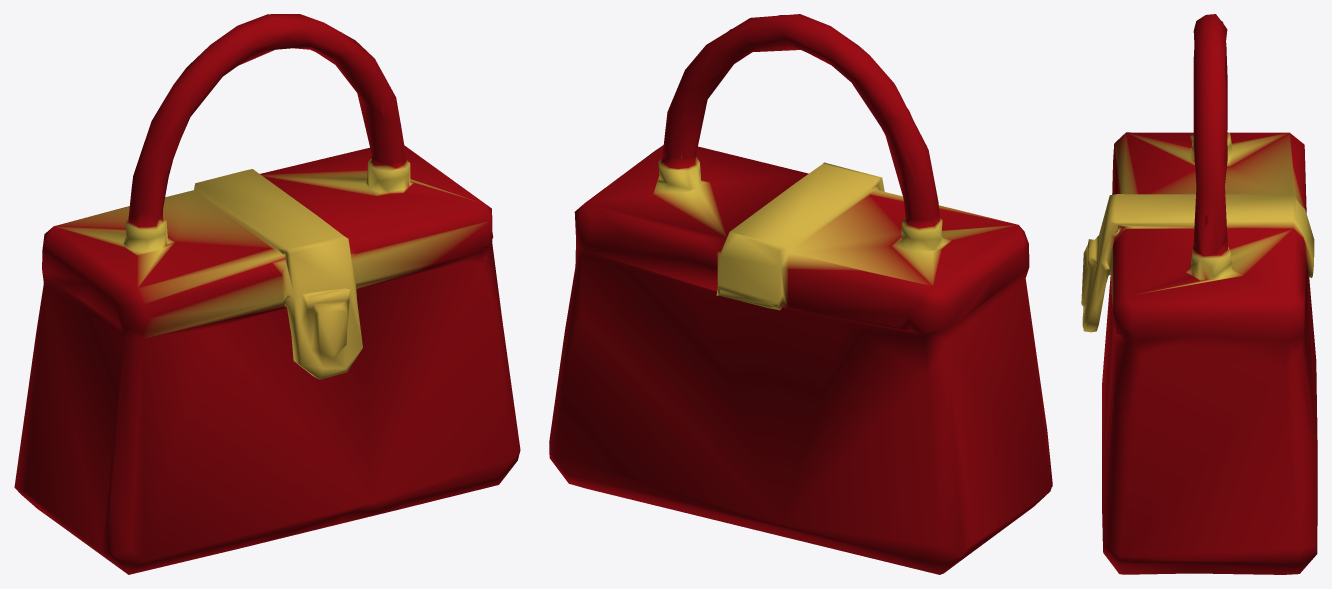
Rendered from gen3d-purse-lod1.glb.
3 views of the same model, side by side, from view 1: azimuth 30°, elevation 25°; view 2: azimuth 150°, elevation 25°; view 3: azimuth 270°, elevation 25° (orthographic). The views are drawn at different scales.
Visible parts, largest first — view 1: part_0; view 2: part_0; view 3: part_0.
Part boxes in pixels (x1,y1,x2,y2): part_0: (14,14,520,574); part_0: (549,14,1052,574); part_0: (1081,14,1317,574).
Bounding box in the file's own units: 0.9054 × 0.9994 × 0.4611.
